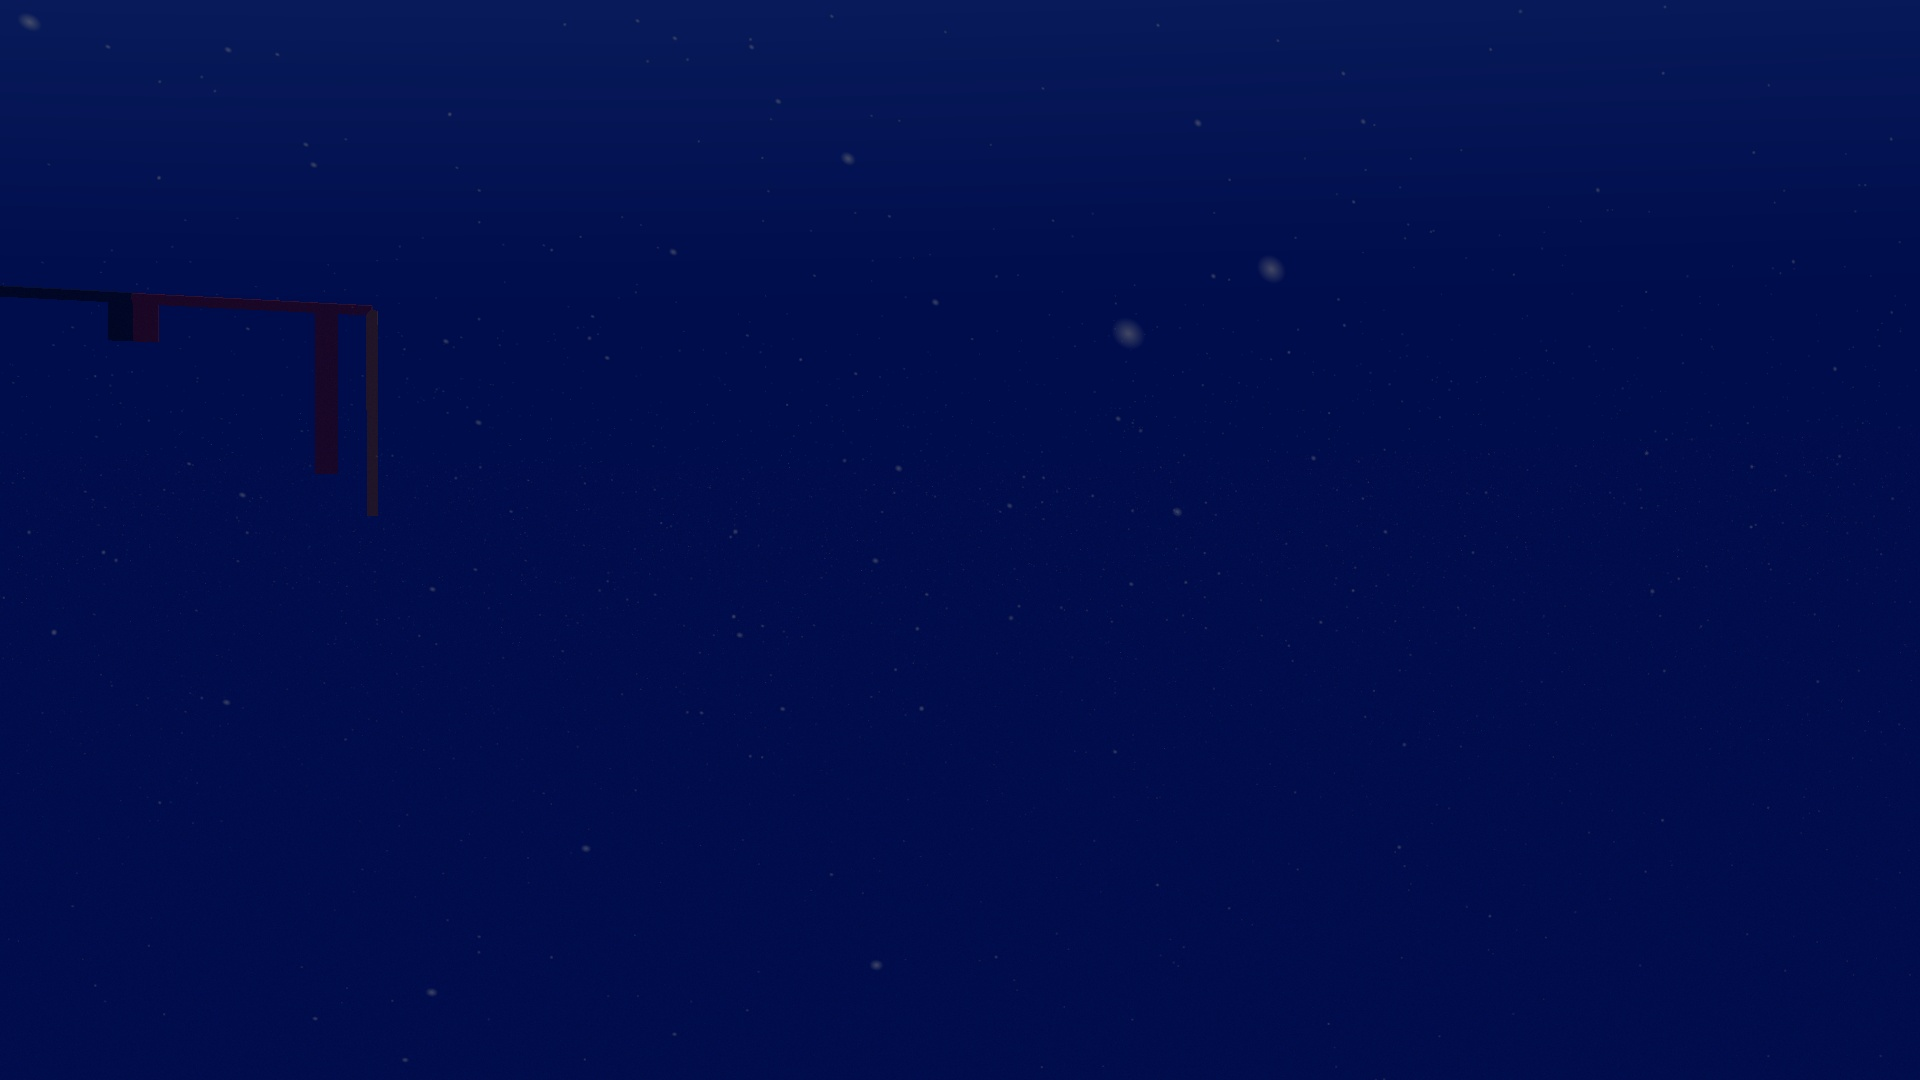Gate: (1, 273, 392, 531)
